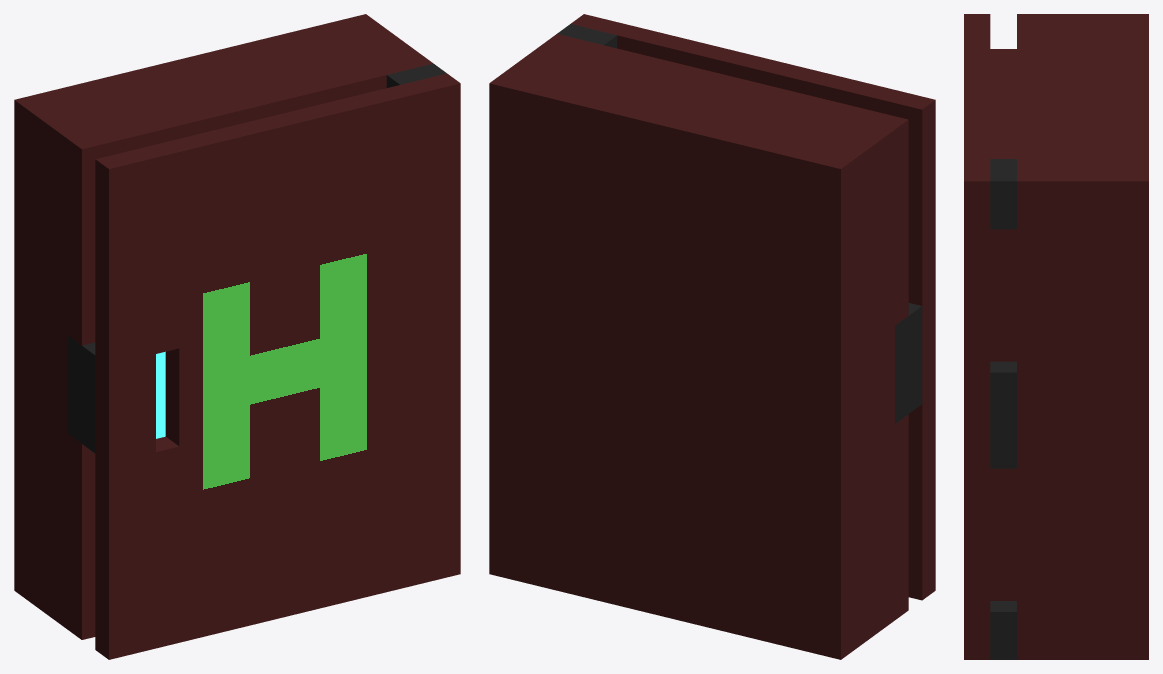
The model's file is Apteczka.dae.
3 renders of one model, left to right at view 1: azimuth 30°, elevation 25°; view 2: azimuth 150°, elevation 25°; view 3: azimuth 270°, elevation 25°, orthographic. The views are drawn at different scales.
Parts seen in each view (by area): view 1: Content; view 2: Content; view 3: Content.
Boxes of the visible parts, left/top/right/bottom form: Content: left=14, top=14, right=460, bottom=659; Content: left=489, top=14, right=935, bottom=659; Content: left=964, top=14, right=1148, bottom=659.
Bounding box in the file's own units: 15 × 20 × 7.
1 material, 1 textured.
